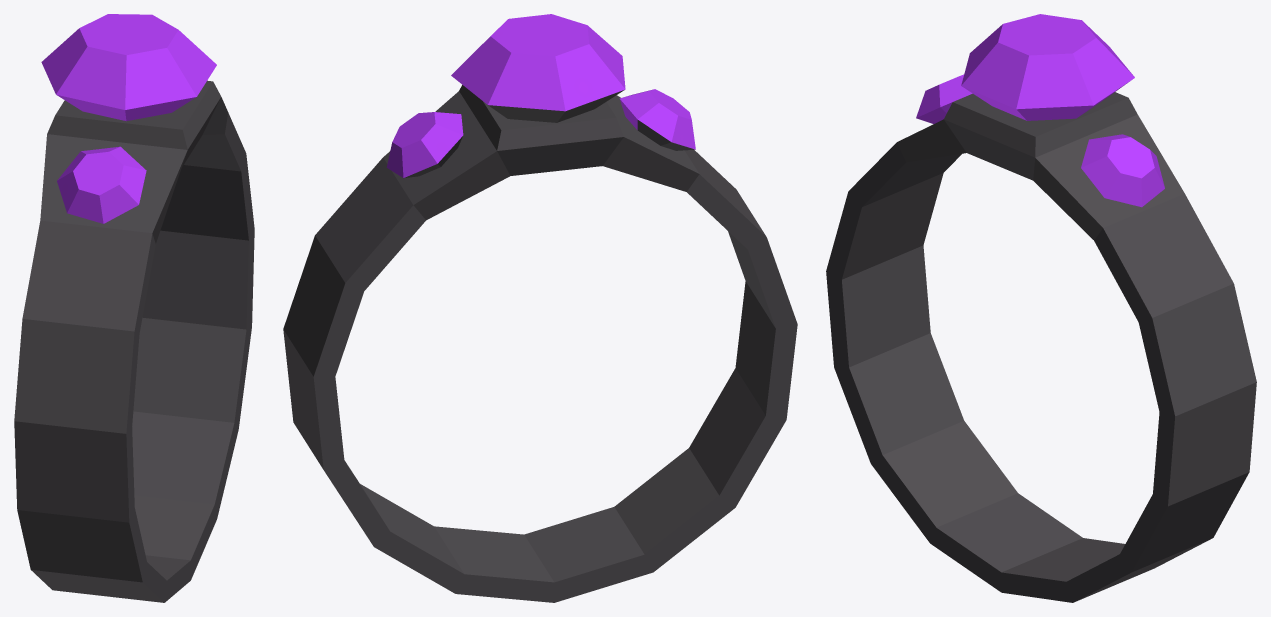
File: ring.glb
The picture shows the model from 3 angles, left to right: view 1: azimuth 30°, elevation 25°; view 2: azimuth 150°, elevation 25°; view 3: azimuth 270°, elevation 25°; orthographic projection.
Parts seen in each view (by area): view 1: Ring; view 2: Ring; view 3: Ring.
Boxes of the visible parts, x1=… form: Ring: x1=14, y1=14, x2=254, y2=602; Ring: x1=283, y1=14, x2=797, y2=602; Ring: x1=826, y1=14, x2=1256, y2=602.
Bounding box in the file's own units: 0.3412 × 0.4702 × 0.3412.
Materials: 1 (1 with a texture image).
